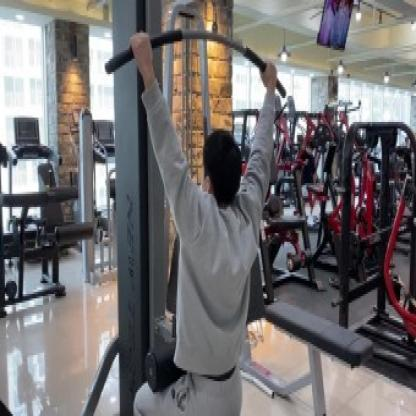Lat Pull Down: (90, 0, 298, 416)
